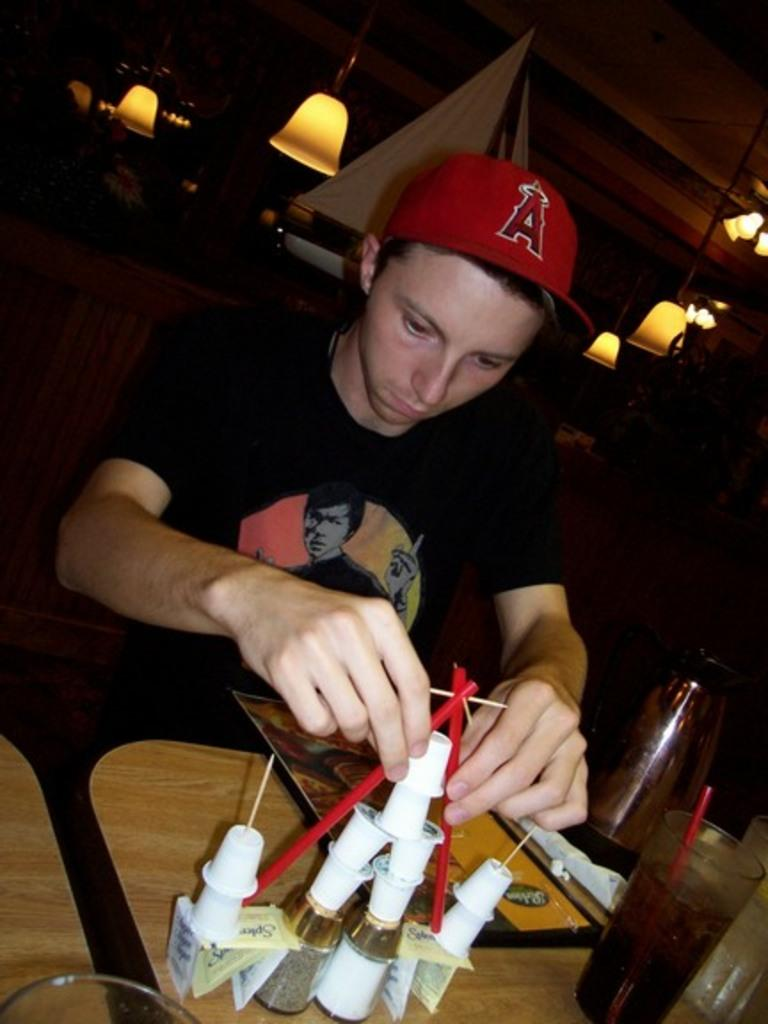Hat: (378, 146, 591, 342)
